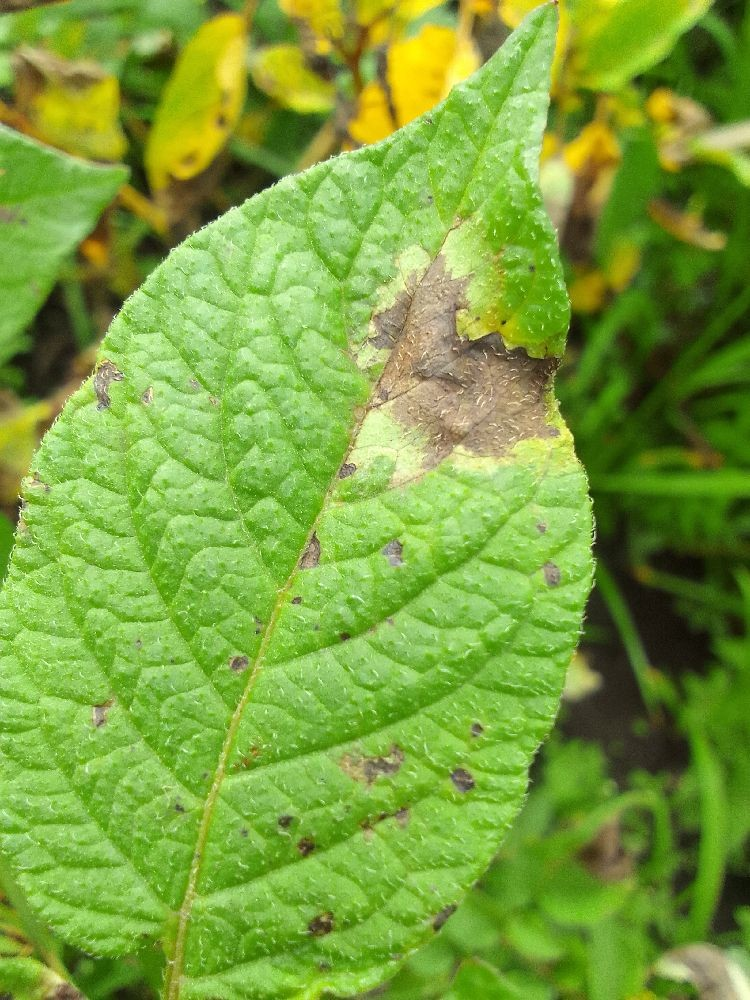late_blight: (60, 0, 421, 347), (522, 485, 750, 829), (329, 227, 611, 496), (513, 52, 672, 356)
